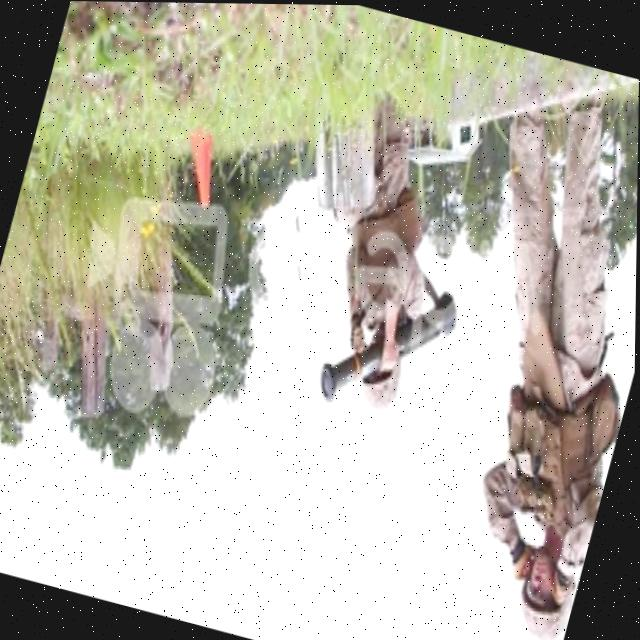rocket: (296, 248, 483, 436)
